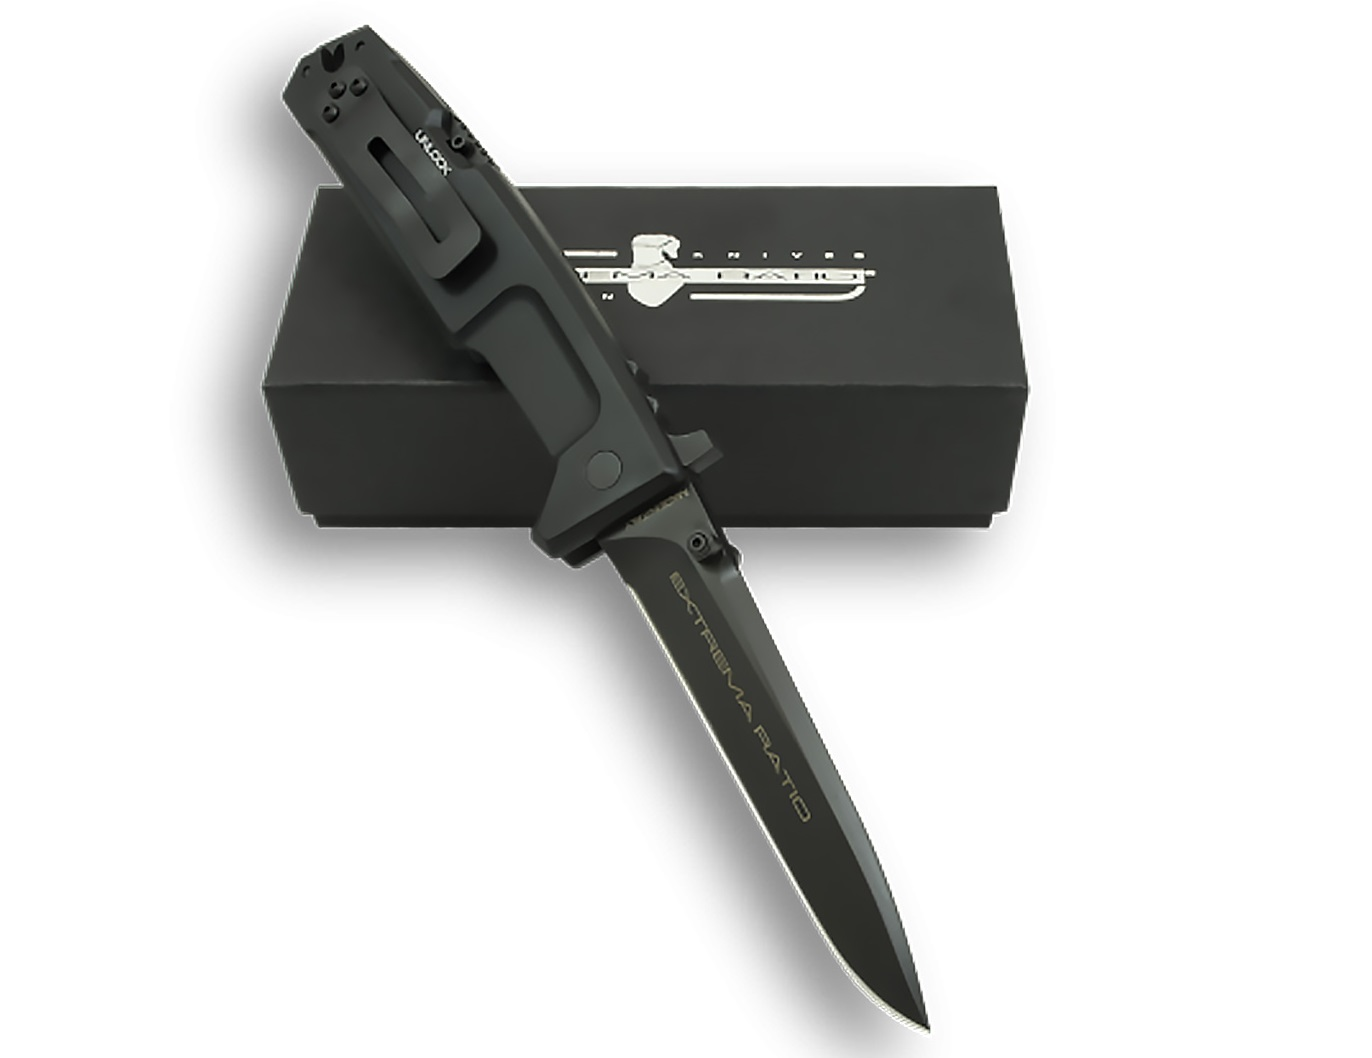knife: (585, 466, 937, 1045)
